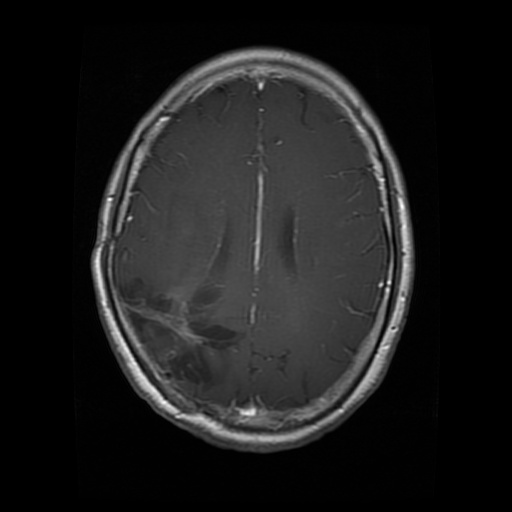glioma: (120, 276, 246, 391)
